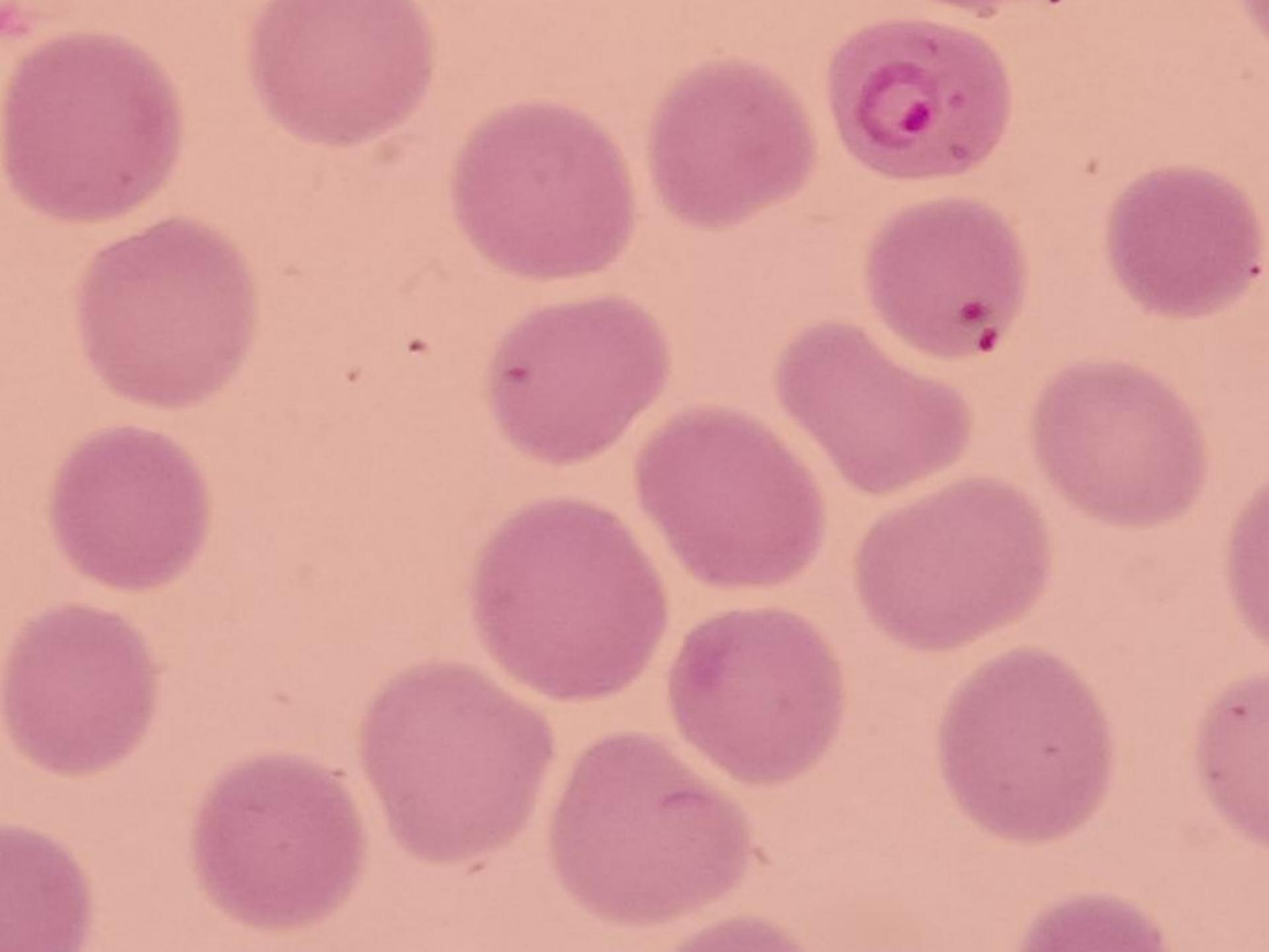Infected: (825, 17, 1006, 178)
Uninfected: (549, 735, 748, 924), (476, 497, 662, 697), (368, 663, 551, 863), (775, 321, 977, 497), (858, 471, 1051, 649), (638, 405, 824, 587), (937, 653, 1113, 843), (0, 28, 176, 216), (449, 101, 632, 279), (78, 217, 247, 409), (188, 752, 365, 928), (668, 610, 842, 781), (492, 301, 669, 462), (646, 61, 816, 228), (1031, 359, 1203, 522), (0, 605, 156, 771), (248, 0, 426, 142), (866, 200, 1027, 356), (58, 428, 212, 588), (1105, 167, 1260, 320)
